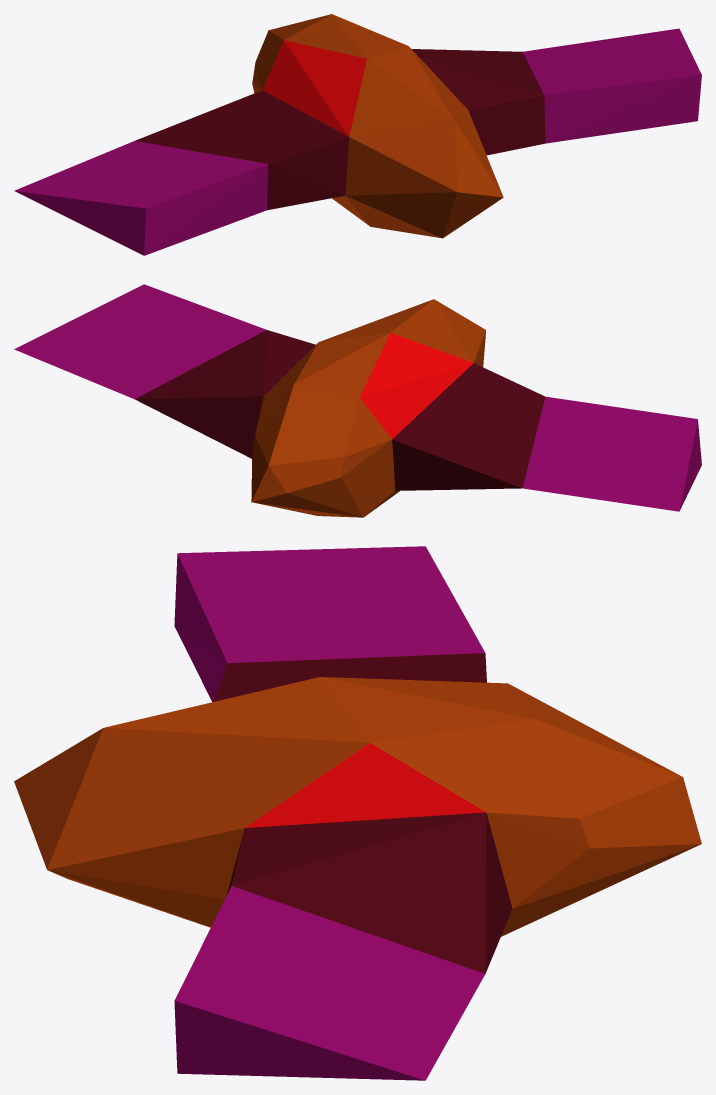
File: Enemy2LV4.fbx
3 views of the same model, one above another, from view 1: azimuth 30°, elevation 25°; view 2: azimuth 150°, elevation 25°; view 3: azimuth 270°, elevation 25° (orthographic). The views are drawn at different scales.
Visible parts, largest first — view 1: Sphere; view 2: Sphere; view 3: Sphere.
Boxes of the visible parts, x1,y1,x2,y2 form: Sphere: [14, 14, 701, 255]; Sphere: [14, 284, 701, 517]; Sphere: [14, 546, 701, 1080].
Size of the model in its own units: 913 by 197 by 497.
